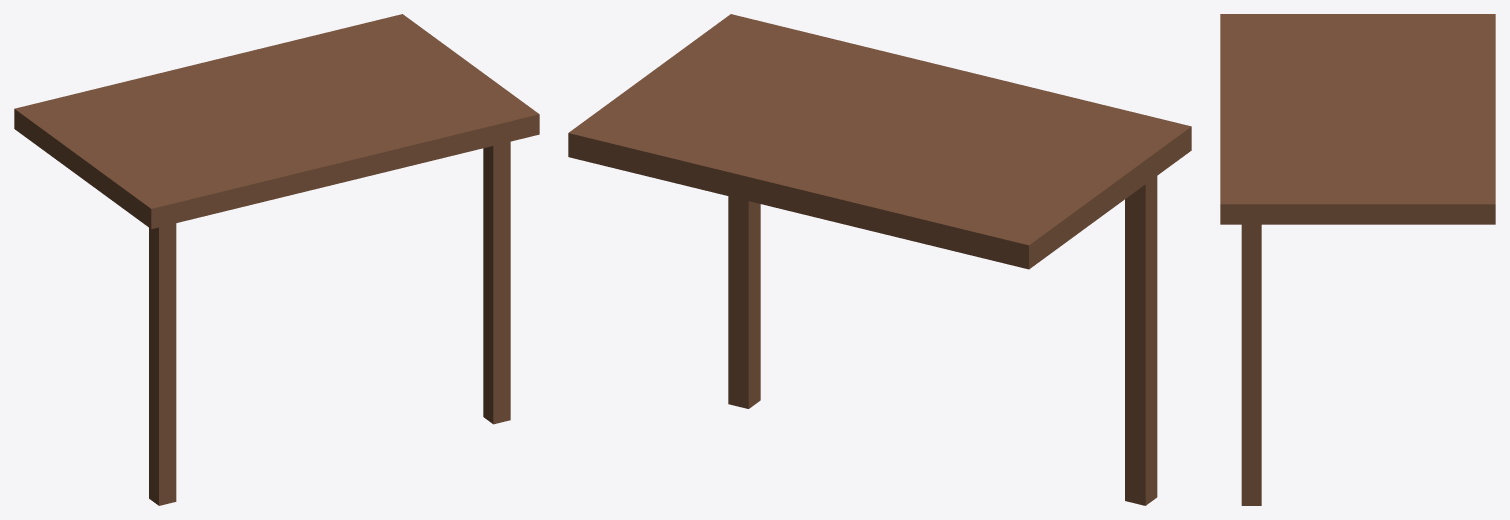
Rendered from bh_traditional_shade_canopy_01_lod0.glb.
The picture shows the model from 3 angles, left to right: view 1: azimuth 30°, elevation 25°; view 2: azimuth 150°, elevation 25°; view 3: azimuth 270°, elevation 25°; orthographic projection. The views are drawn at different scales.
Parts seen in each view (by area): view 1: bh_traditional_shade_canopy_01_roof, bh_traditional_shade_canopy_01_post_l, bh_traditional_shade_canopy_01_post_r; view 2: bh_traditional_shade_canopy_01_roof, bh_traditional_shade_canopy_01_post_l, bh_traditional_shade_canopy_01_post_r; view 3: bh_traditional_shade_canopy_01_roof, bh_traditional_shade_canopy_01_post_r.
Part boxes in pixels (x1,y1,x2,y2): bh_traditional_shade_canopy_01_roof: [14, 14, 539, 229]; bh_traditional_shade_canopy_01_post_l: [149, 223, 176, 505]; bh_traditional_shade_canopy_01_post_r: [483, 141, 510, 424]; bh_traditional_shade_canopy_01_roof: [568, 14, 1191, 269]; bh_traditional_shade_canopy_01_post_l: [1125, 176, 1157, 505]; bh_traditional_shade_canopy_01_post_r: [728, 196, 760, 408]; bh_traditional_shade_canopy_01_roof: [1220, 14, 1495, 224]; bh_traditional_shade_canopy_01_post_r: [1241, 224, 1261, 505].
Bounding box in the file's own units: 3.6 × 2.74 × 2.2.
